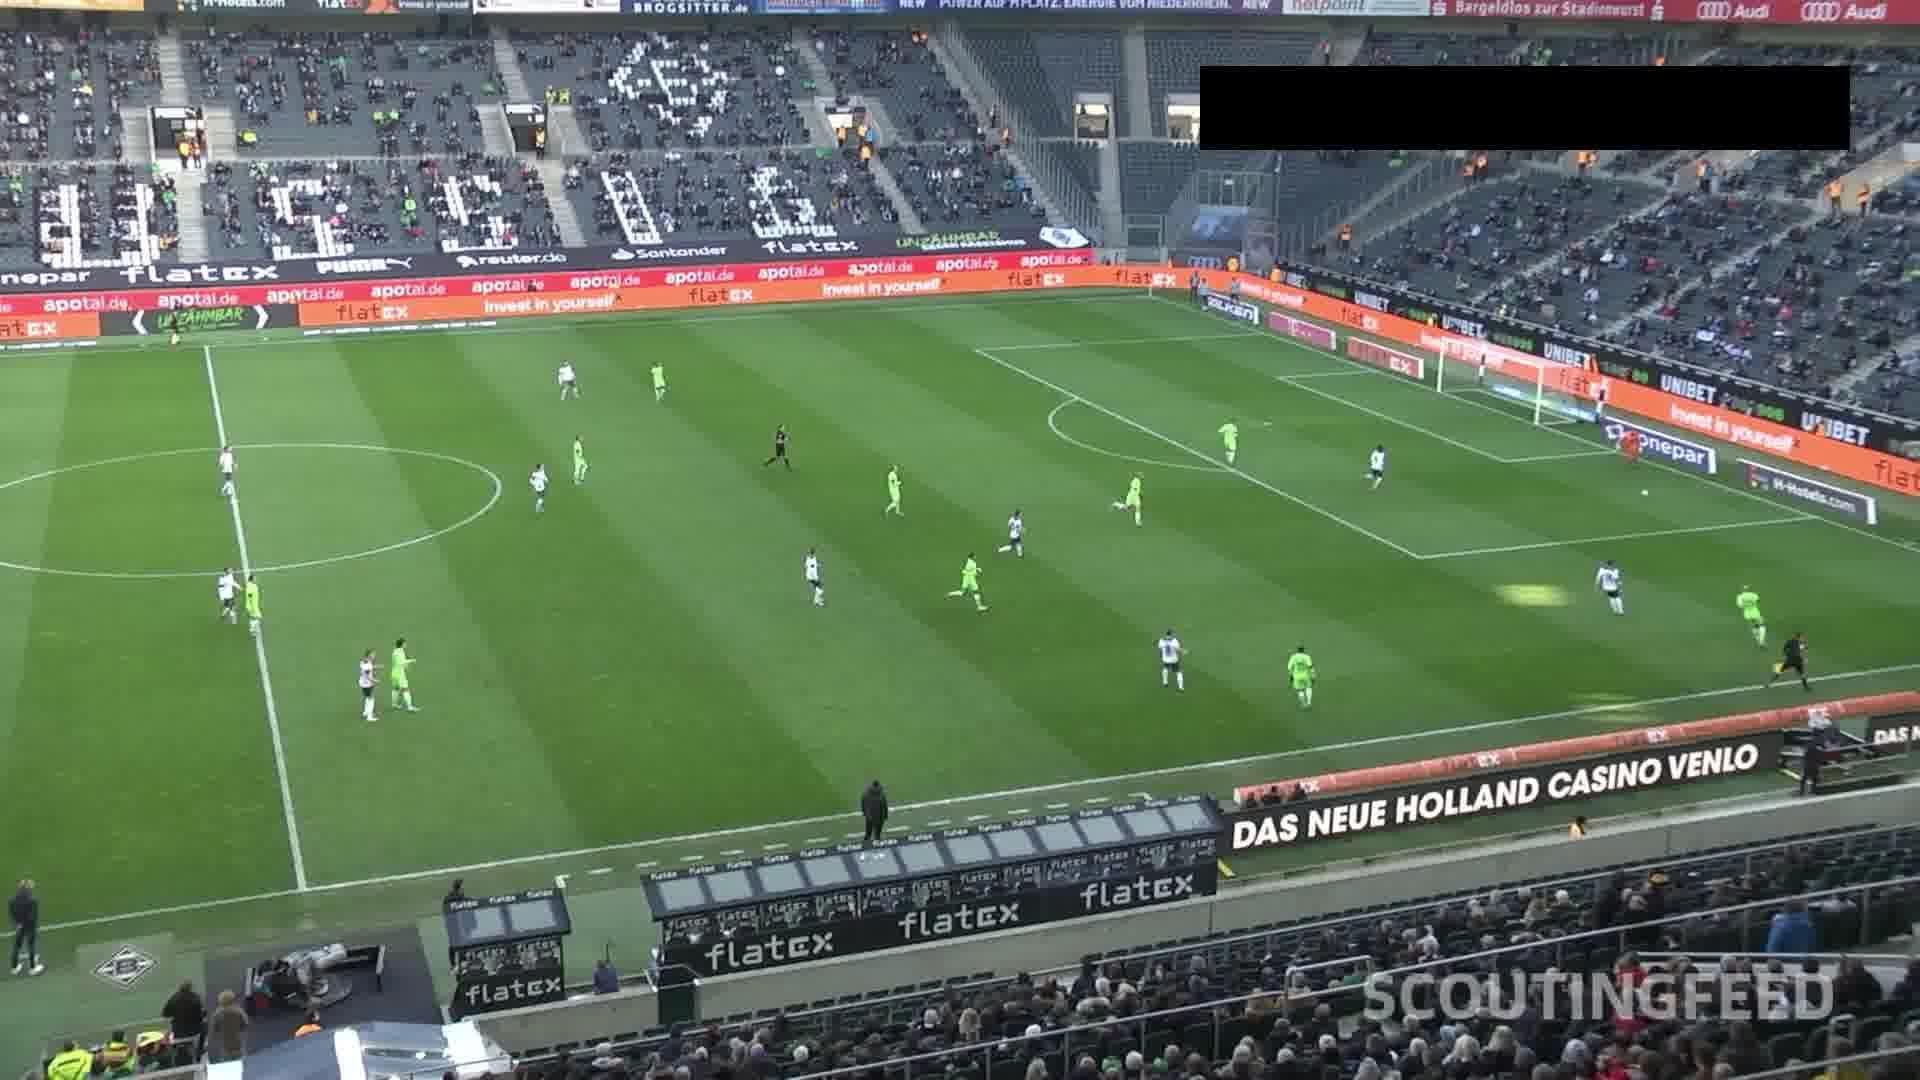football: (1640, 489, 1648, 496)
